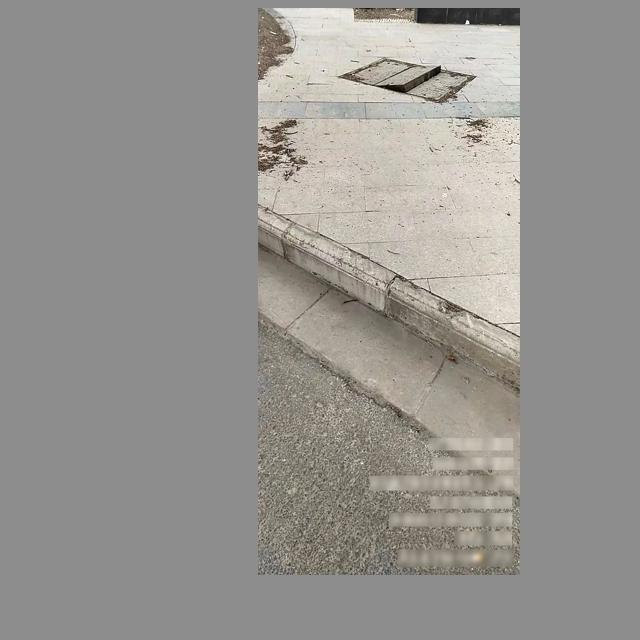uncovered: (338, 58, 476, 101)
